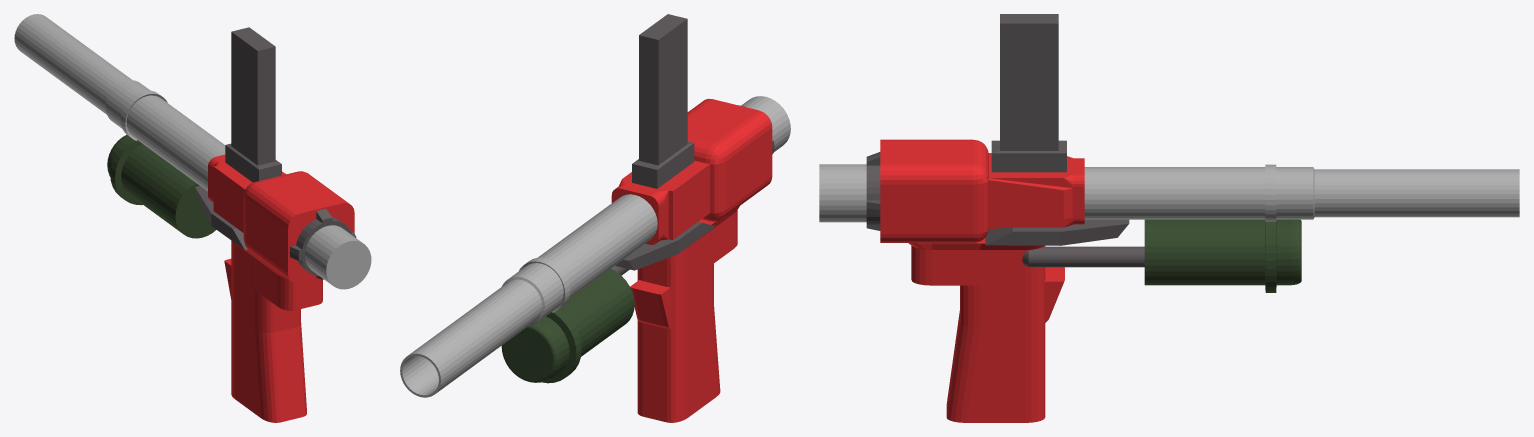
File: SMG.fbx
The picture shows the model from 3 angles, left to right: view 1: azimuth 30°, elevation 25°; view 2: azimuth 150°, elevation 25°; view 3: azimuth 270°, elevation 25°; orthographic projection. The views are drawn at different scales.
Parts seen in each view (by area): view 1: Cube, Cylinder.002, Cube.001, Cube.003, Cylinder.003, Cylinder.001, Cylinder, Cube.002; view 2: Cylinder.002, Cube, Cube.001, Cube.003, Cylinder.003, Cube.002, Cylinder.001; view 3: Cylinder.002, Cube, Cube.001, Cylinder.003, Cube.003, Cylinder.001, Cube.002, Cylinder.004, Cylinder.
Boxes of the visible parts, x1,y1,x2,y2 form: Cube: (224,240,322,422); Cylinder.002: (14,14,225,191); Cube.001: (208,154,354,283); Cube.003: (225,27,281,182); Cylinder.003: (107,134,216,238); Cylinder.001: (305,225,371,289); Cylinder: (289,209,356,279); Cube.002: (195,186,247,249); Cylinder.002: (400,194,657,397); Cube: (630,206,739,422); Cube.001: (611,98,772,244); Cube.003: (632,14,694,188); Cylinder.003: (501,269,634,383); Cube.002: (615,222,715,270); Cylinder.001: (741,96,790,151); Cylinder.002: (1084,164,1519,221); Cube: (908,238,1064,422); Cube.001: (880,139,1084,242); Cylinder.003: (1144,219,1301,292); Cube.003: (991,14,1066,172); Cylinder.001: (819,164,866,222); Cube.002: (985,219,1129,245); Cylinder.004: (1022,246,1144,267); Cylinder: (866,152,880,230).
Size of the model in its own units: 200 by 1015 by 1642.
